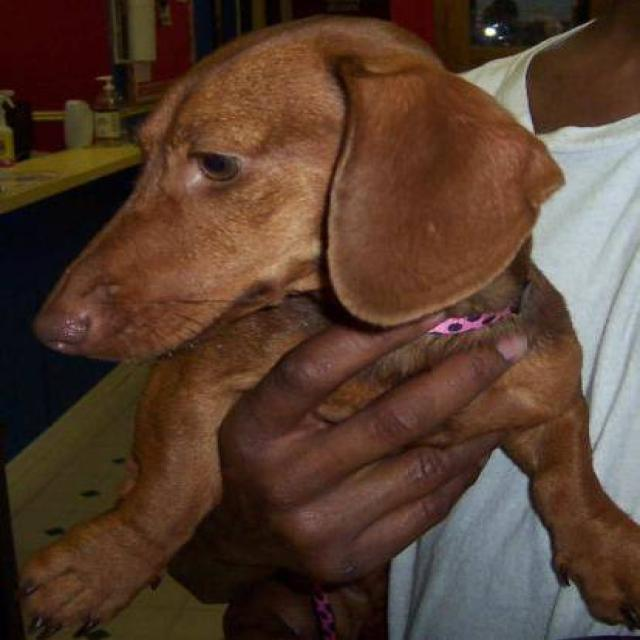dog: (12, 11, 638, 638)
